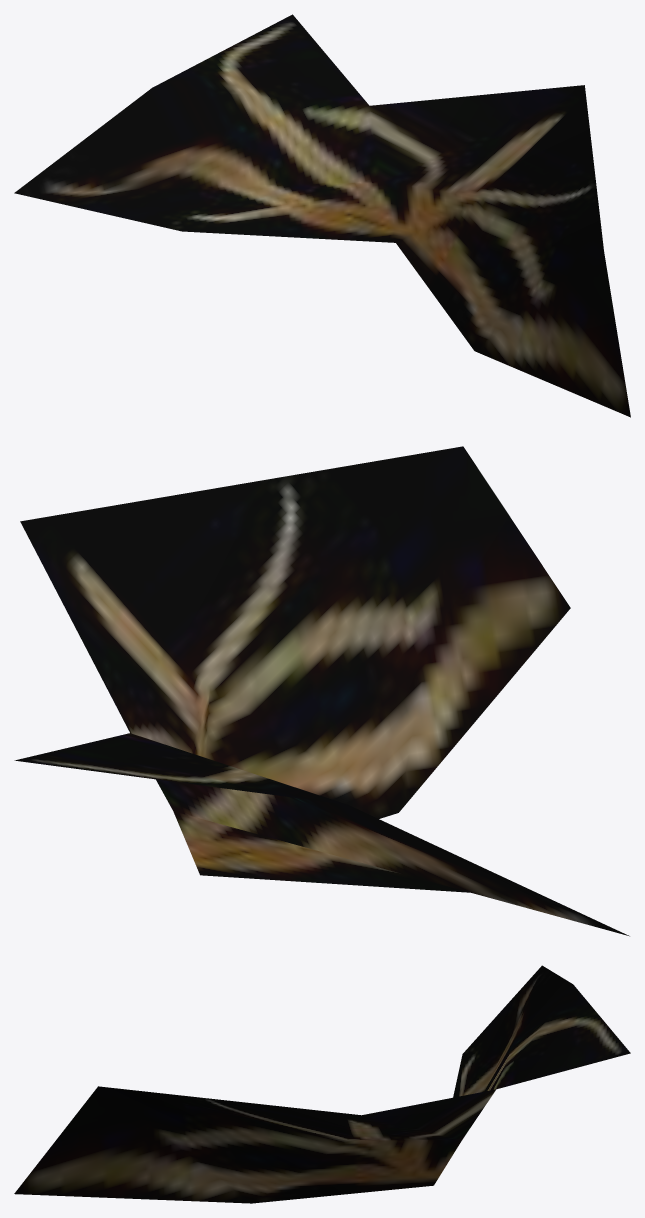
The model's file is grass_bermuda_01_v1.glb.
The picture shows the model from 3 angles, top to bottom: view 1: azimuth 30°, elevation 25°; view 2: azimuth 150°, elevation 25°; view 3: azimuth 270°, elevation 25°; orthographic projection. The views are drawn at different scales.
Visible parts, largest first — view 1: lod0; view 2: lod0; view 3: lod0.
Part boxes in pixels (x1,y1,x2,y2): lod0: [14, 14, 630, 417]; lod0: [14, 446, 629, 936]; lod0: [14, 965, 630, 1203].
Size of what is drawn, in the model's own units: 0.0677 by 0.0247 by 0.0843.
1 material, 1 textured.
